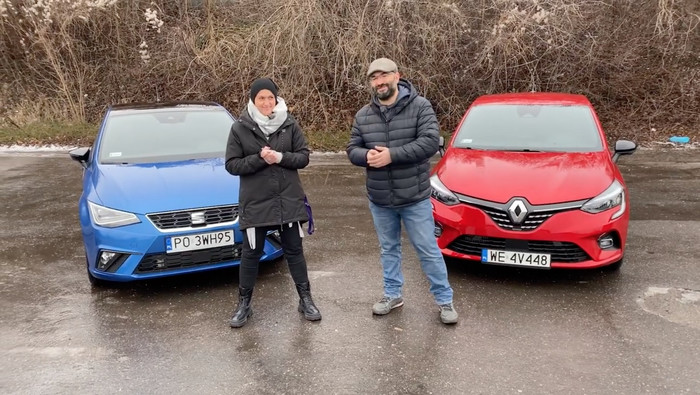number_plate: (164, 230, 236, 254), (481, 248, 551, 271)
